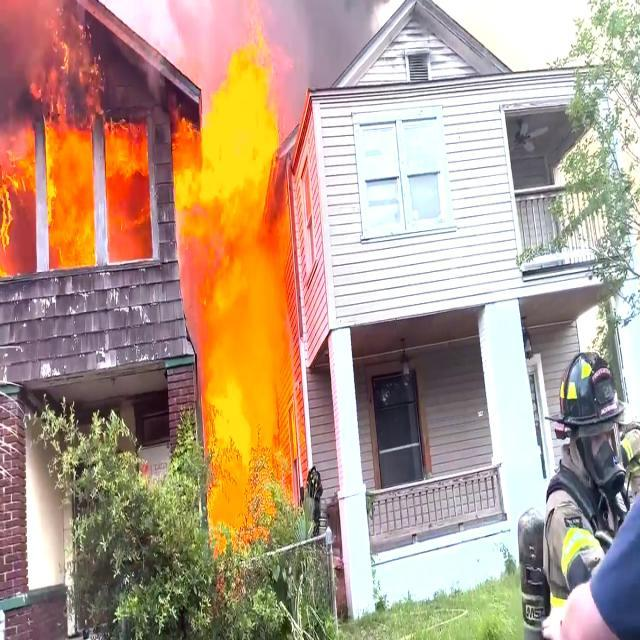Fire: (193, 79, 311, 574), (45, 120, 96, 274), (0, 109, 40, 281), (110, 117, 154, 266)
Smoke: (273, 0, 375, 79)
